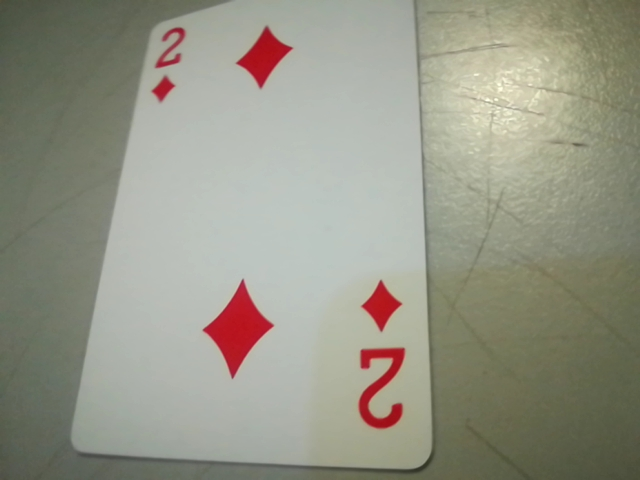fk 2: (342, 267, 420, 444)
